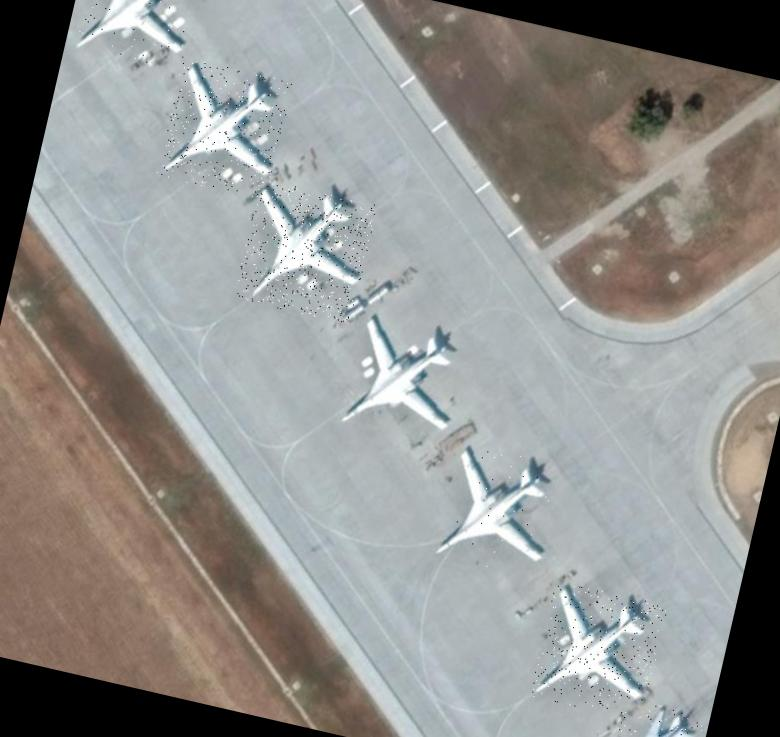A12: (604, 696, 705, 737)
A6: (232, 178, 378, 325), (155, 57, 293, 201), (529, 580, 668, 722), (335, 310, 472, 450), (432, 441, 566, 579), (73, 0, 205, 72)
